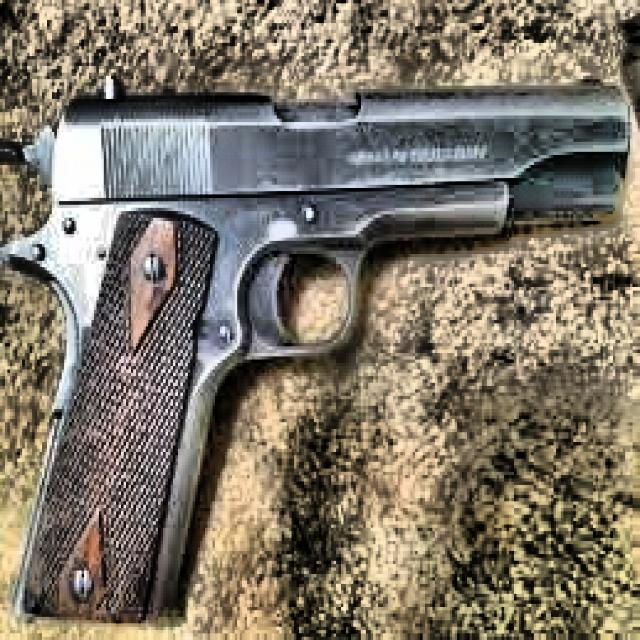Colt m1911: (0, 20, 638, 627)
